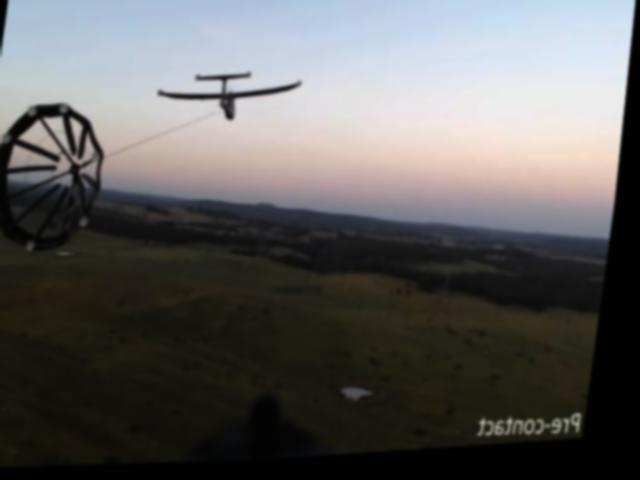uav: (149, 61, 315, 135)
